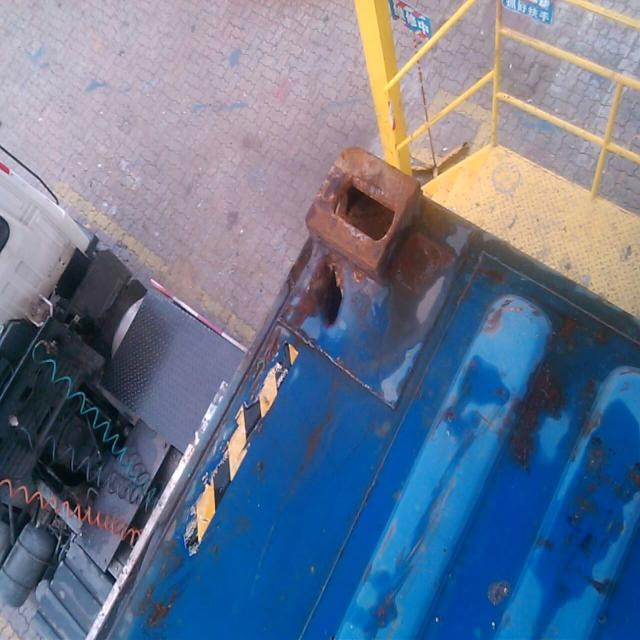hole: (309, 262, 355, 342)
